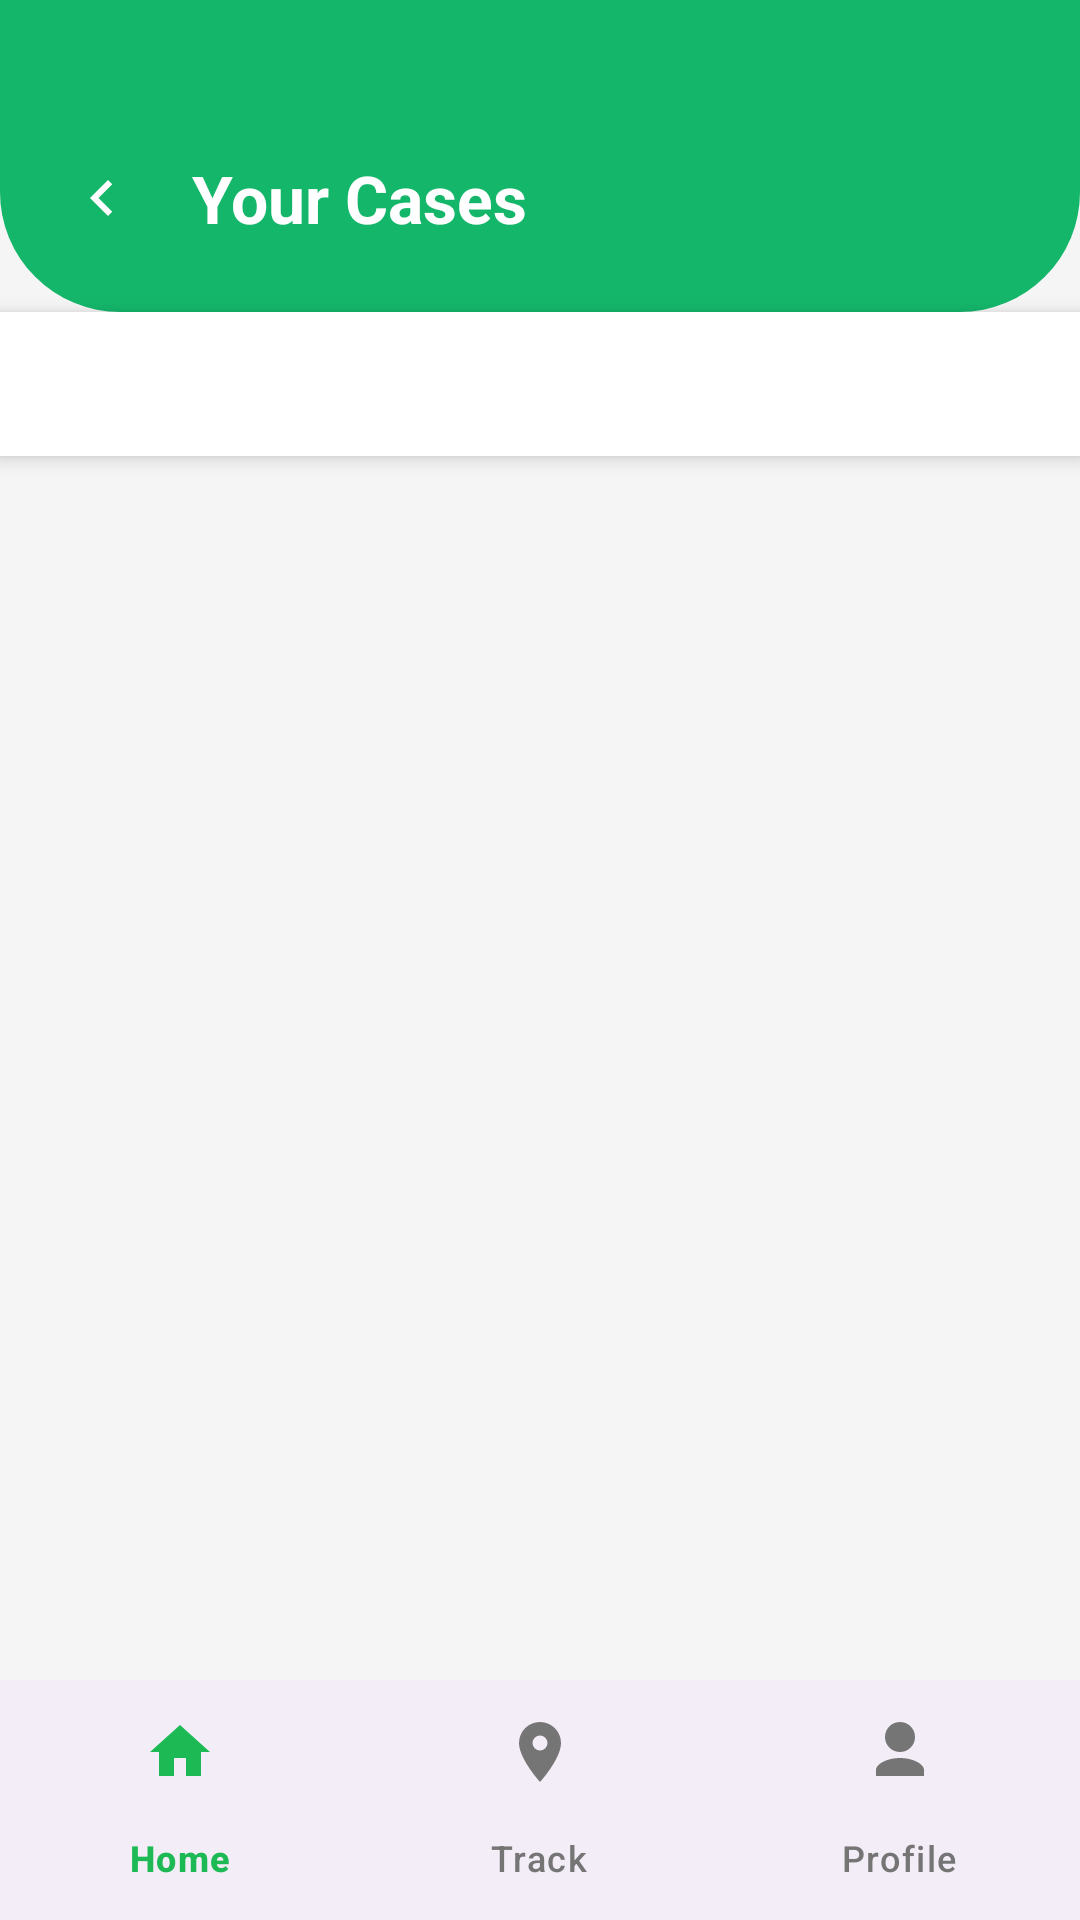

Icon click points for this 1080×1920 phone screenshot, format [x,y]:
back: [101,198]
